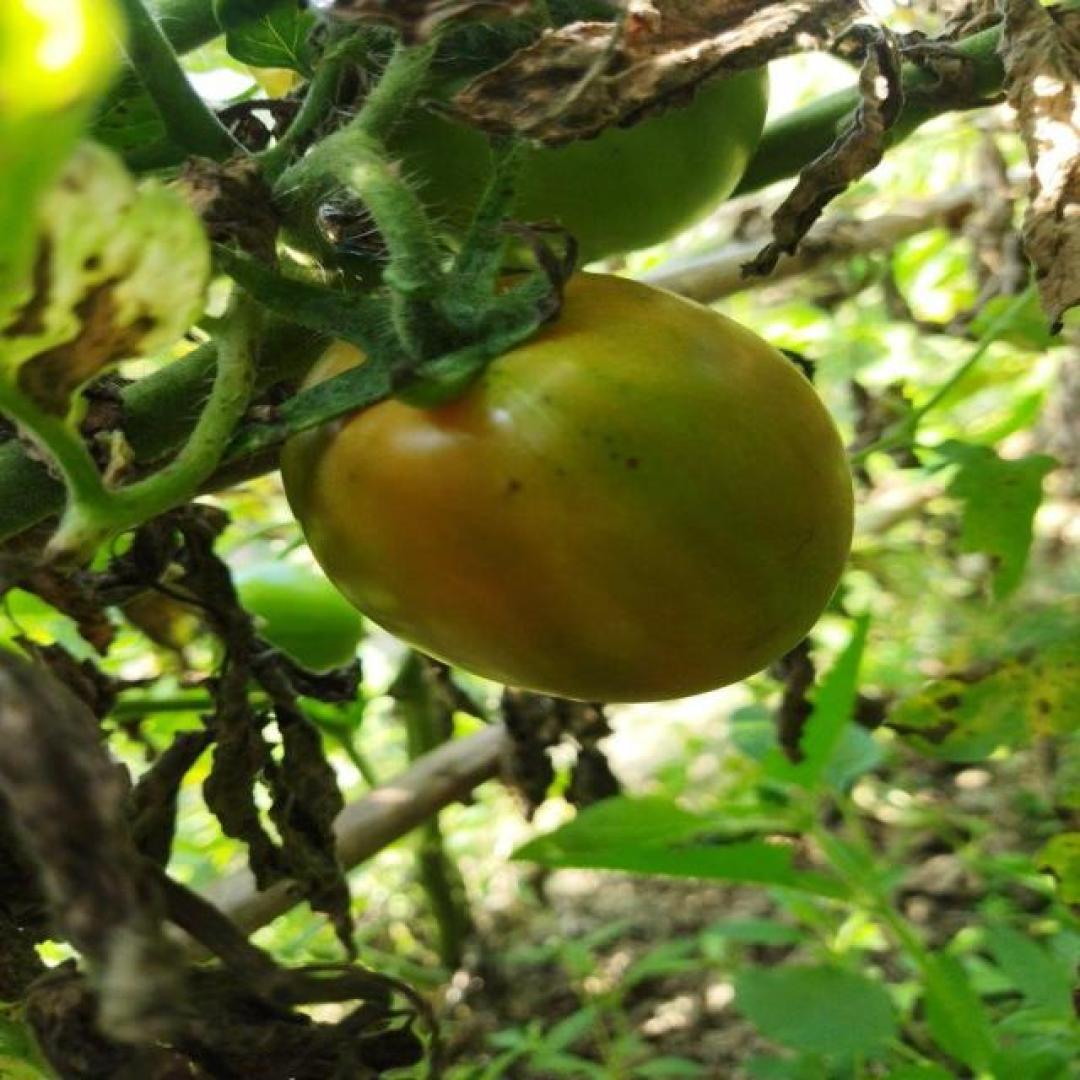setengah_matang: (272, 266, 864, 708)
